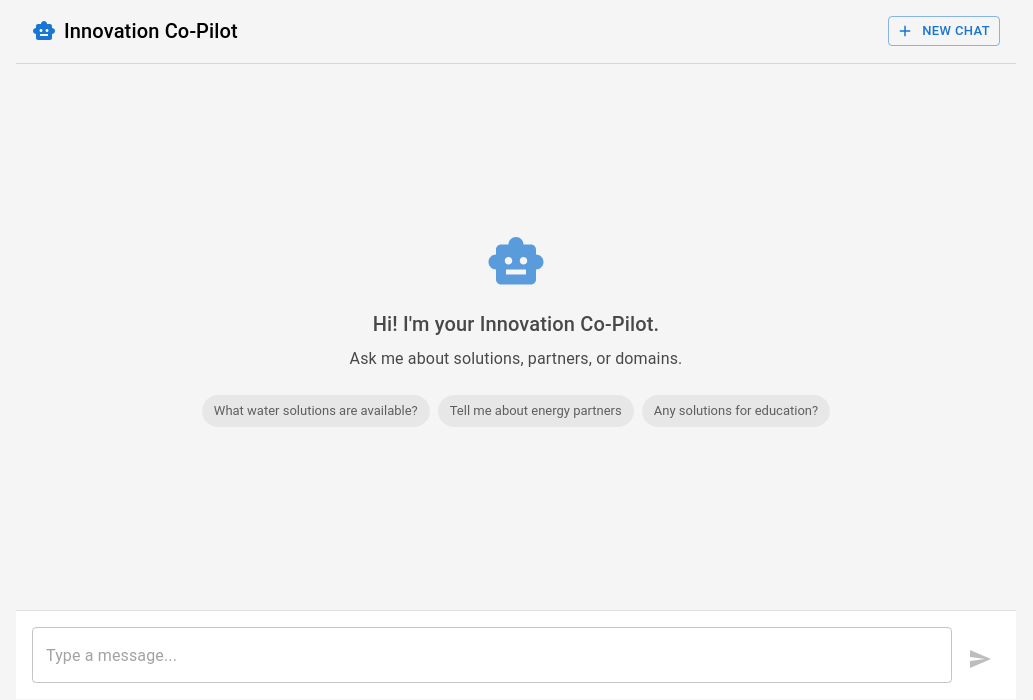
it: AiChatView › handles fetch error
The image size is (1033, 700).
Type "Error test" into the text box with placeholder "Type a message..." at (492, 655), box top-left (46, 644), bottom-right (938, 666)
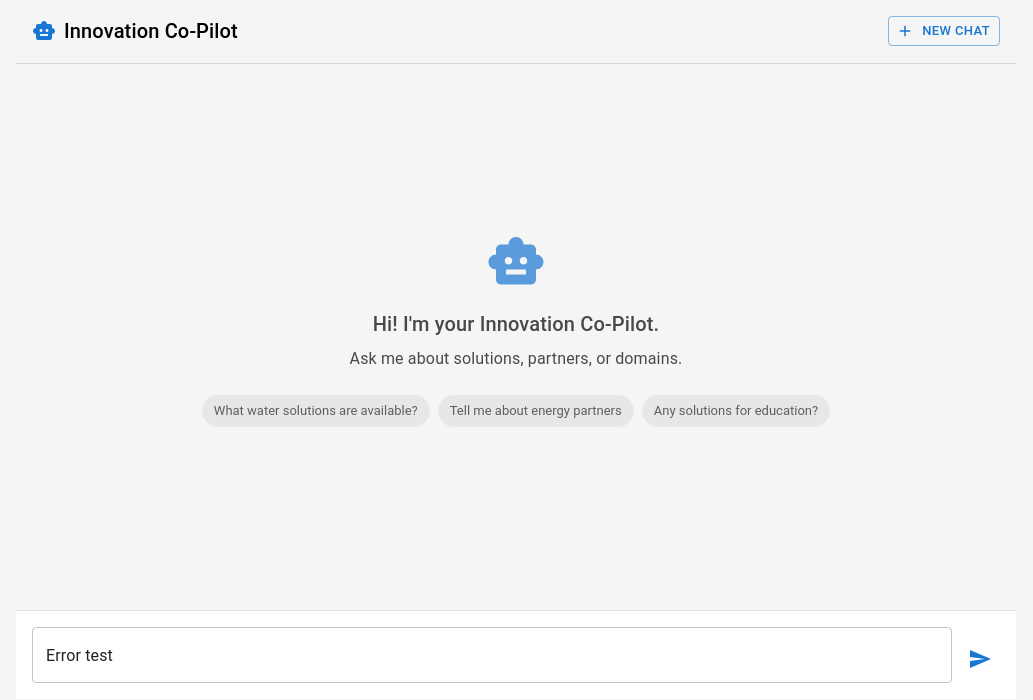
Press Enter in the text box with placeholder "Type a message...", box top-left (46, 644), bottom-right (938, 666)
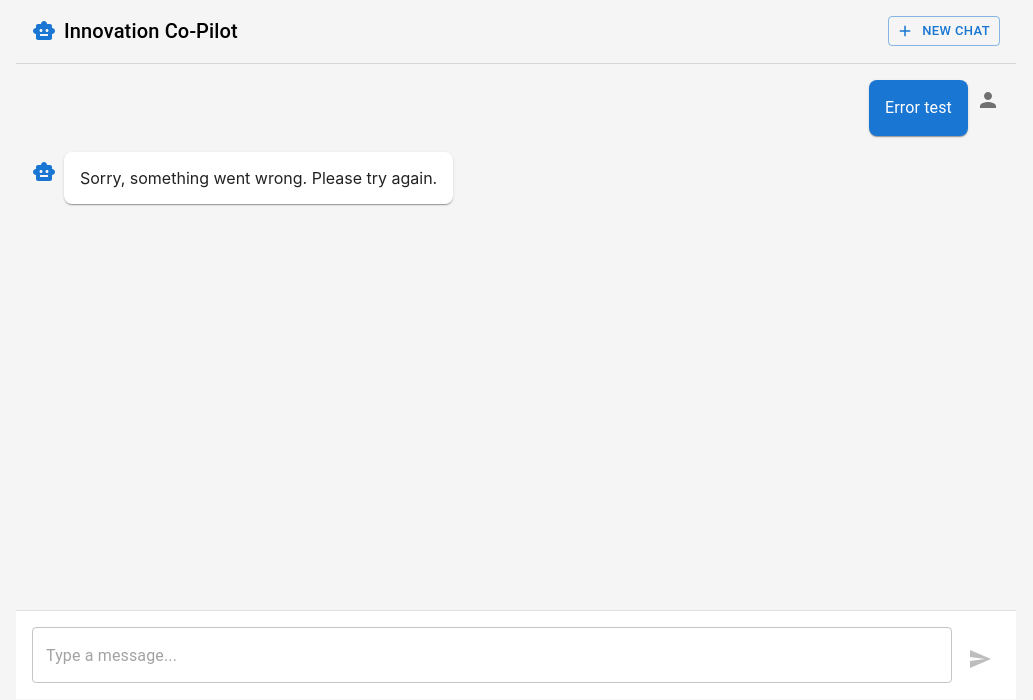
Result: the text "Sorry, something went wrong. Please try again." is shown at top-left (80, 168), bottom-right (437, 188)
